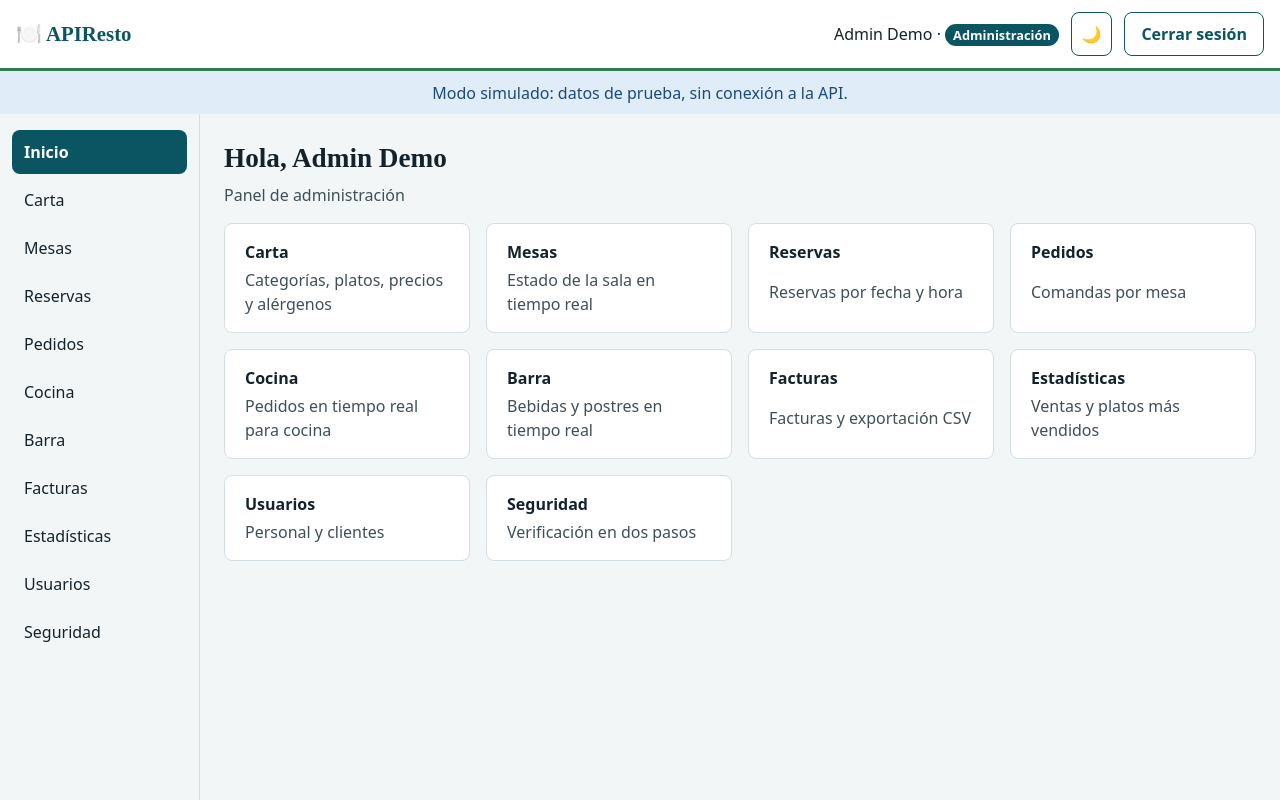
Test: login y navegación por rol (modo simulado) › la sesión se restaura al recargar y se cierra con "Cerrar sesión"
expect the heading "Hola, Admin Demo" is shown: met, box x1=224 y1=143 x2=447 y2=173
Click the button "Cerrar sesión": (1194, 34) x1=1124 y1=12 x2=1264 y2=56
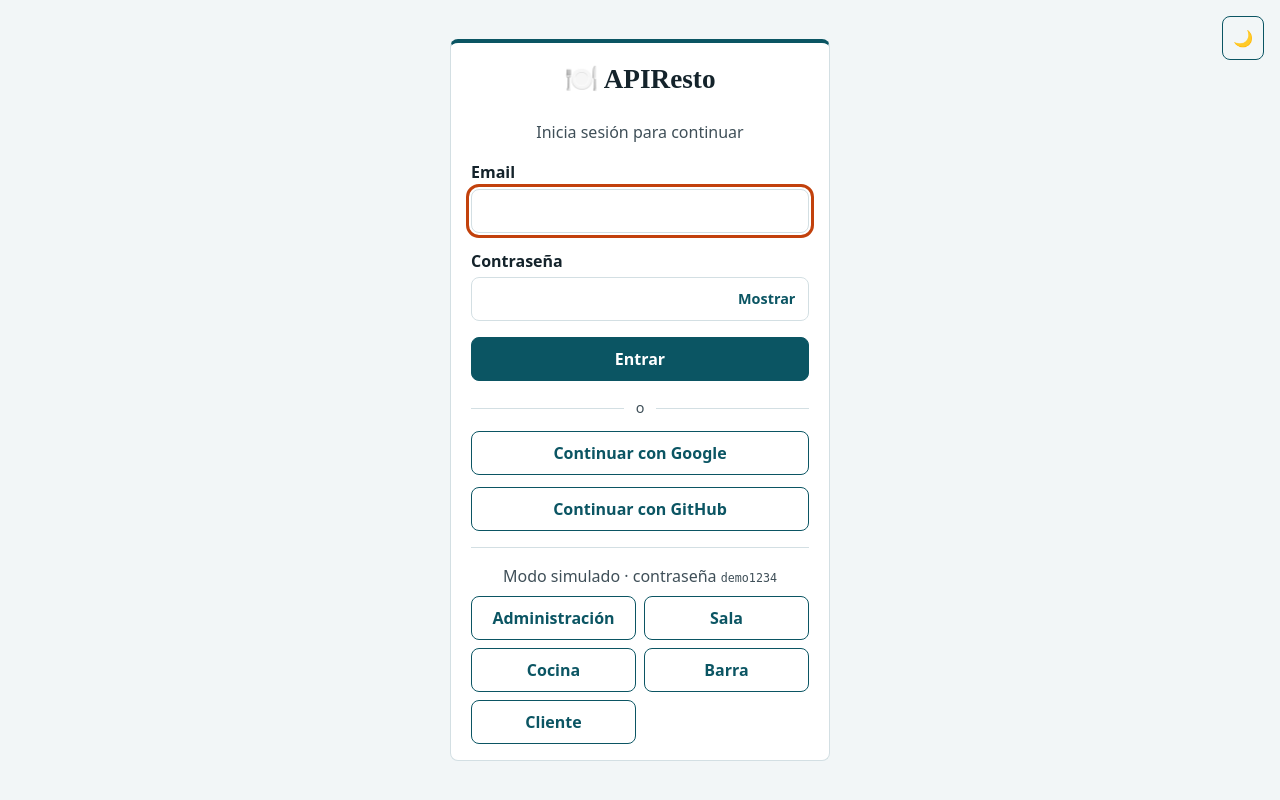
expect the text "Inicia sesión para continuar" is shown: met, box x1=536 y1=121 x2=744 y2=143
